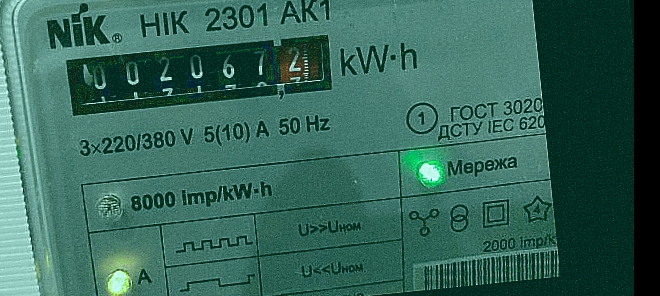0: (87, 61, 108, 92), (121, 56, 141, 87), (184, 50, 204, 79)
2: (154, 53, 174, 83), (283, 43, 303, 73)
6: (217, 49, 238, 80)
7: (250, 46, 269, 78)
screen: (50, 19, 348, 130)
